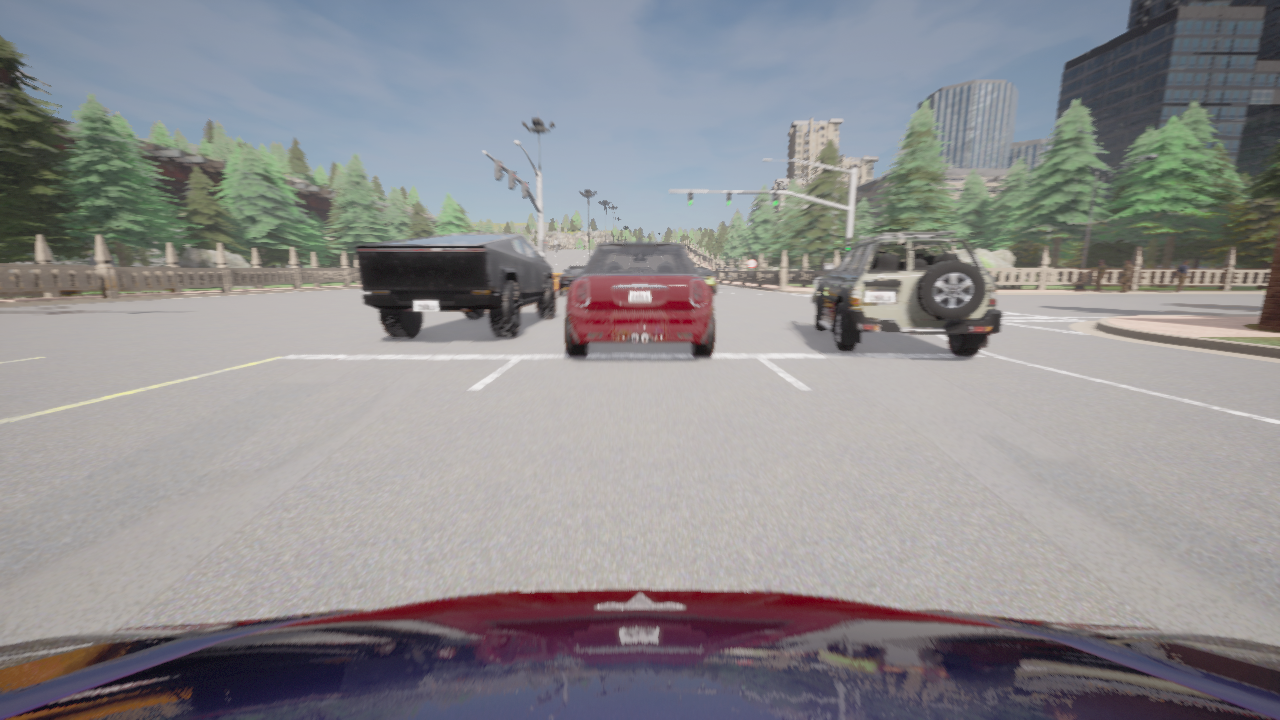cyclist: (0, 588, 1279, 719), (812, 231, 1001, 355), (355, 234, 555, 337), (565, 233, 714, 356), (558, 266, 584, 295), (695, 268, 716, 294)
pedestrian: (1174, 260, 1188, 291), (1119, 260, 1133, 291), (1093, 260, 1105, 290)
